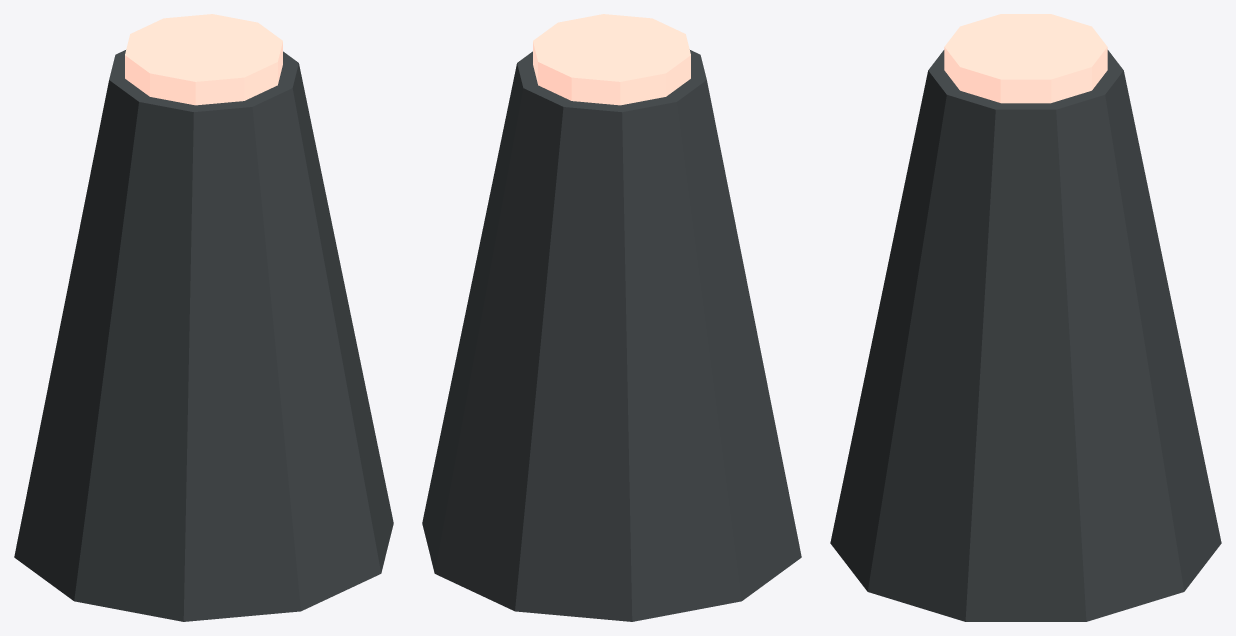
File: thermal_vent.fbx
3 renders of one model, left to right at view 1: azimuth 30°, elevation 25°; view 2: azimuth 150°, elevation 25°; view 3: azimuth 270°, elevation 25°, orthographic.
Parts seen in each view (by area): view 1: thermal_vent; view 2: thermal_vent; view 3: thermal_vent.
Boxes of the visible parts, bbox=[...] form: thermal_vent: bbox=[14, 14, 393, 621]; thermal_vent: bbox=[422, 14, 801, 621]; thermal_vent: bbox=[830, 14, 1221, 621].
Size of the model in its own units: 1.14 by 1.68 by 1.2.
